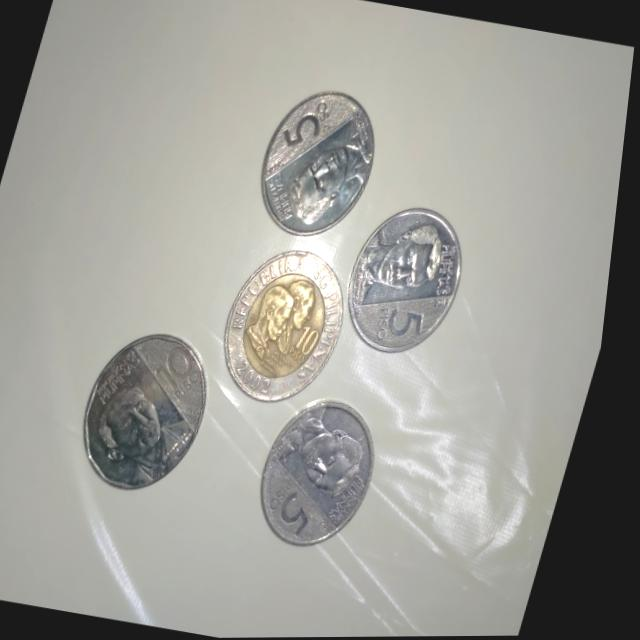10_New_Front: (84, 328, 230, 480)
10_Old_Front: (222, 253, 360, 393)
5_New_Front: (252, 88, 395, 241), (260, 395, 397, 546), (345, 206, 481, 351)
